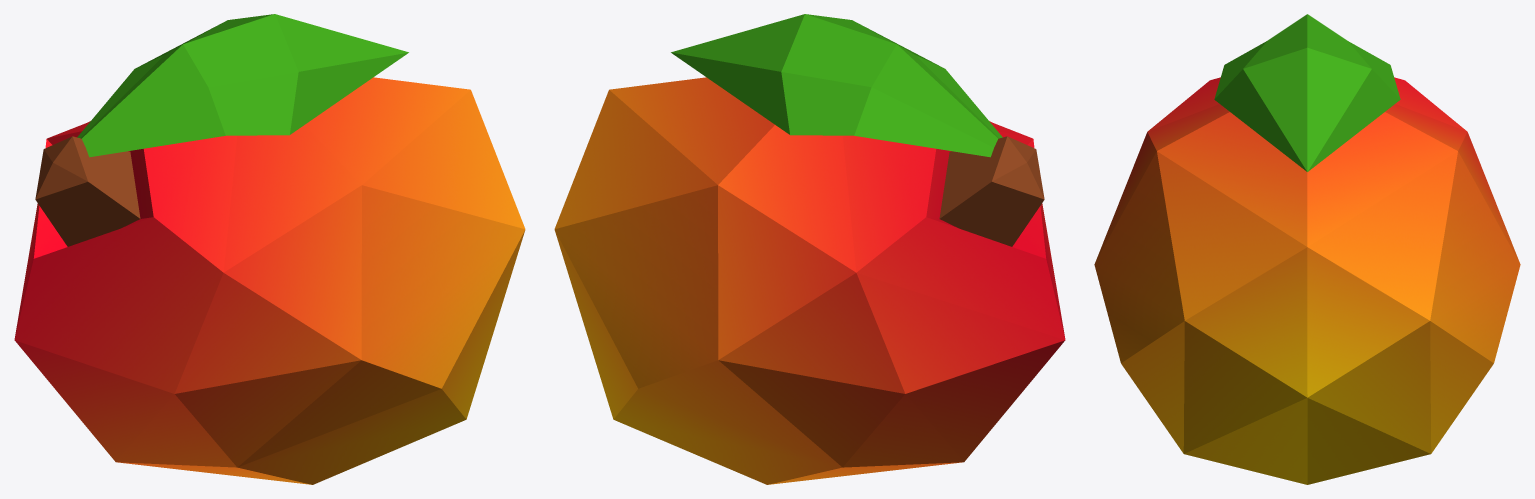
Rendered from mango.fbx.
3 renders of one model, left to right at view 1: azimuth 30°, elevation 25°; view 2: azimuth 150°, elevation 25°; view 3: azimuth 270°, elevation 25°, orthographic. The views are drawn at different scales.
Visible parts, largest first — view 1: mango; view 2: mango; view 3: mango.
Boxes of the visible parts, x1,y1,x2,y2 form: mango: (14,14,525,484); mango: (554,14,1065,484); mango: (1094,14,1520,484).
Size of the model in its own units: 8.08 by 6.98 by 6.84.
